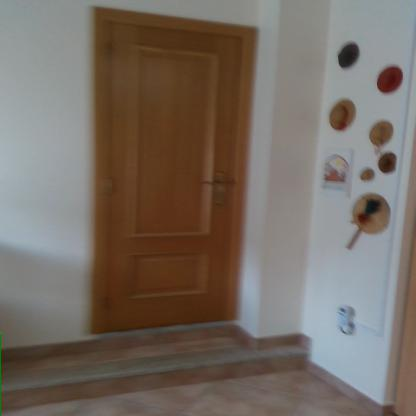door: (107, 21, 232, 326)
hinged: (106, 177, 116, 197), (106, 38, 114, 62), (104, 294, 112, 314)
lever: (196, 176, 232, 190)
